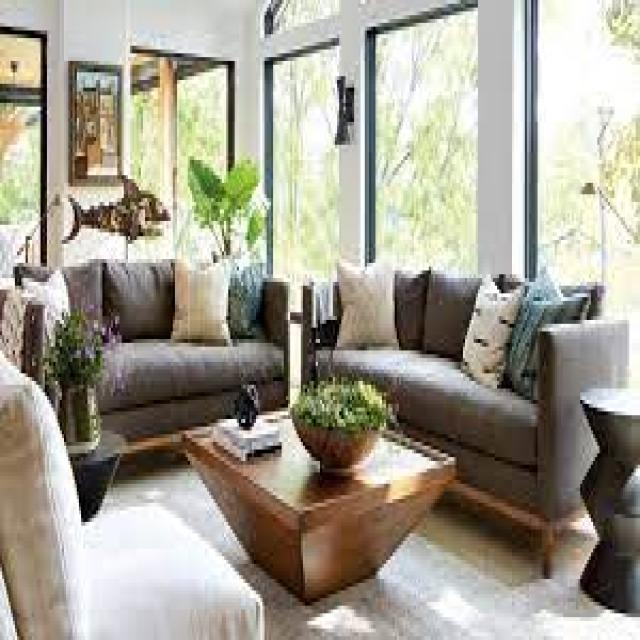Chair: (0, 339, 256, 640)
Lamp: (327, 69, 368, 156)
Sofa: (294, 228, 629, 519), (0, 241, 301, 441)
Table: (170, 381, 449, 596), (584, 376, 640, 604)
